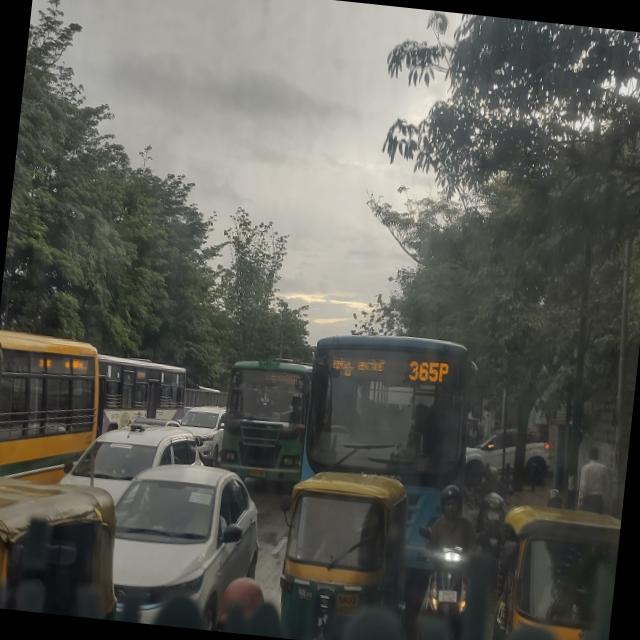bus: (294, 330, 490, 532), (218, 354, 316, 502), (97, 352, 188, 441)
display: (326, 344, 460, 390), (237, 364, 304, 394)
dnumber: (404, 356, 452, 388), (283, 371, 298, 390)
